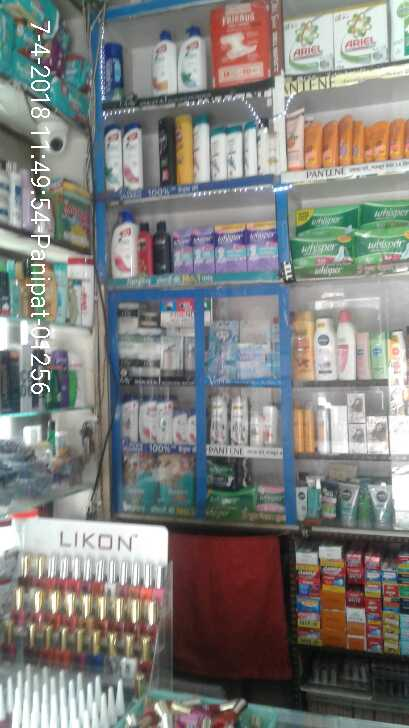venus: (208, 321, 232, 377), (233, 343, 269, 379)
